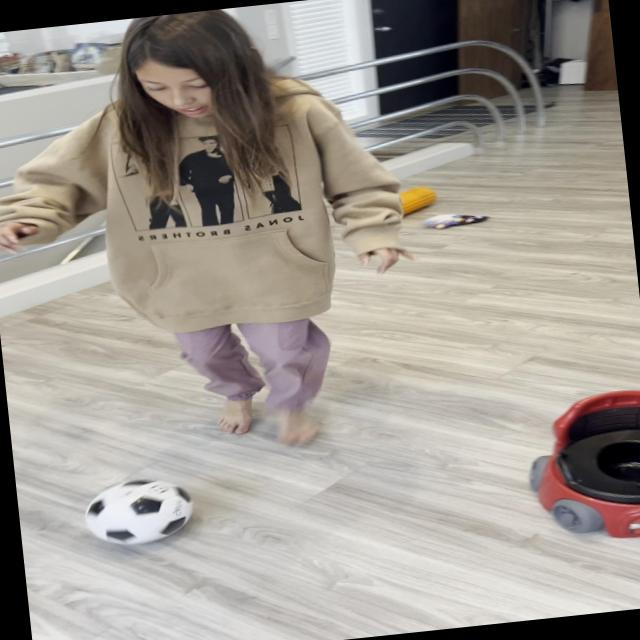Soccer Ball: (84, 474, 194, 548)
